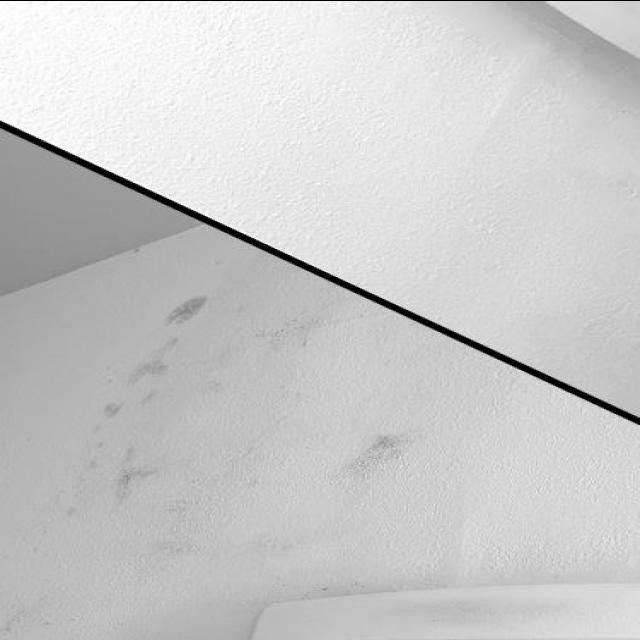stain marks: (126, 334, 180, 384), (120, 443, 156, 508), (342, 434, 399, 474), (260, 308, 318, 346), (168, 295, 204, 330), (104, 400, 121, 417)
